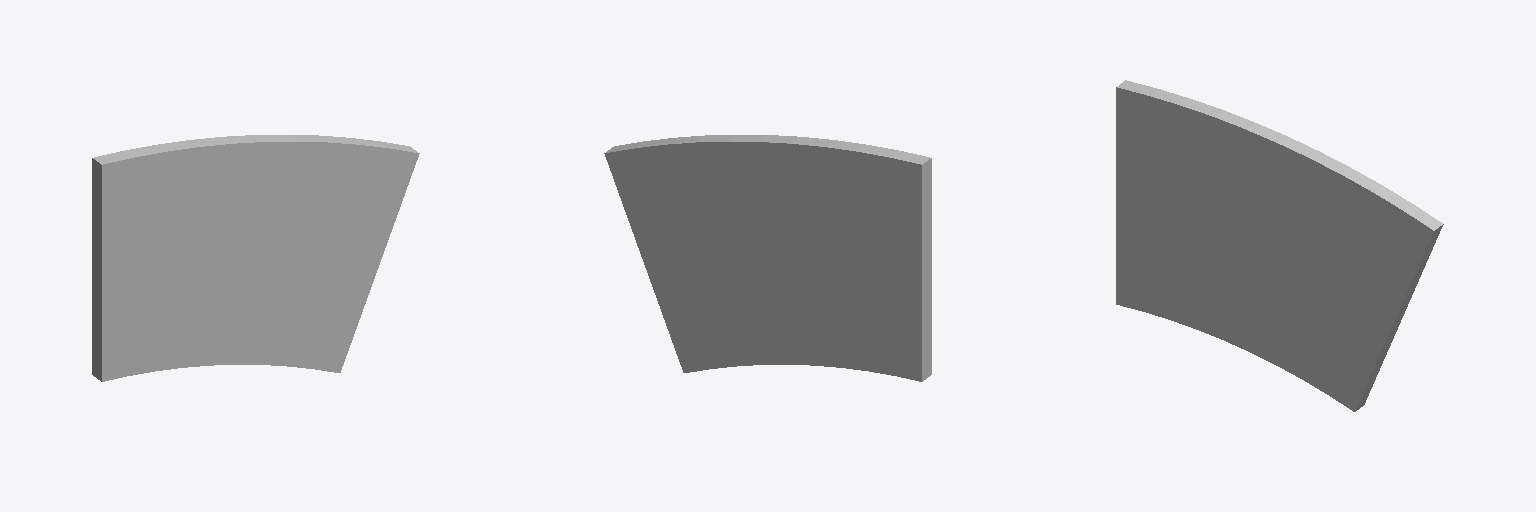
The model's file is DFlag Circle C1.obj.
3 views of the same model, side by side, from view 1: azimuth 30°, elevation 25°; view 2: azimuth 150°, elevation 25°; view 3: azimuth 330°, elevation 25° (orthographic).
Visible parts, largest first — view 1: DFlag_Circle_C1; view 2: DFlag_Circle_C1; view 3: DFlag_Circle_C1.
Part boxes in pixels (x1,y1,x2,y2): DFlag_Circle_C1: (92,135,419,381); DFlag_Circle_C1: (604,135,931,381); DFlag_Circle_C1: (1116,80,1443,411).
Bounding box in the file's own units: 0.0191 × 0.0154 × 0.001.